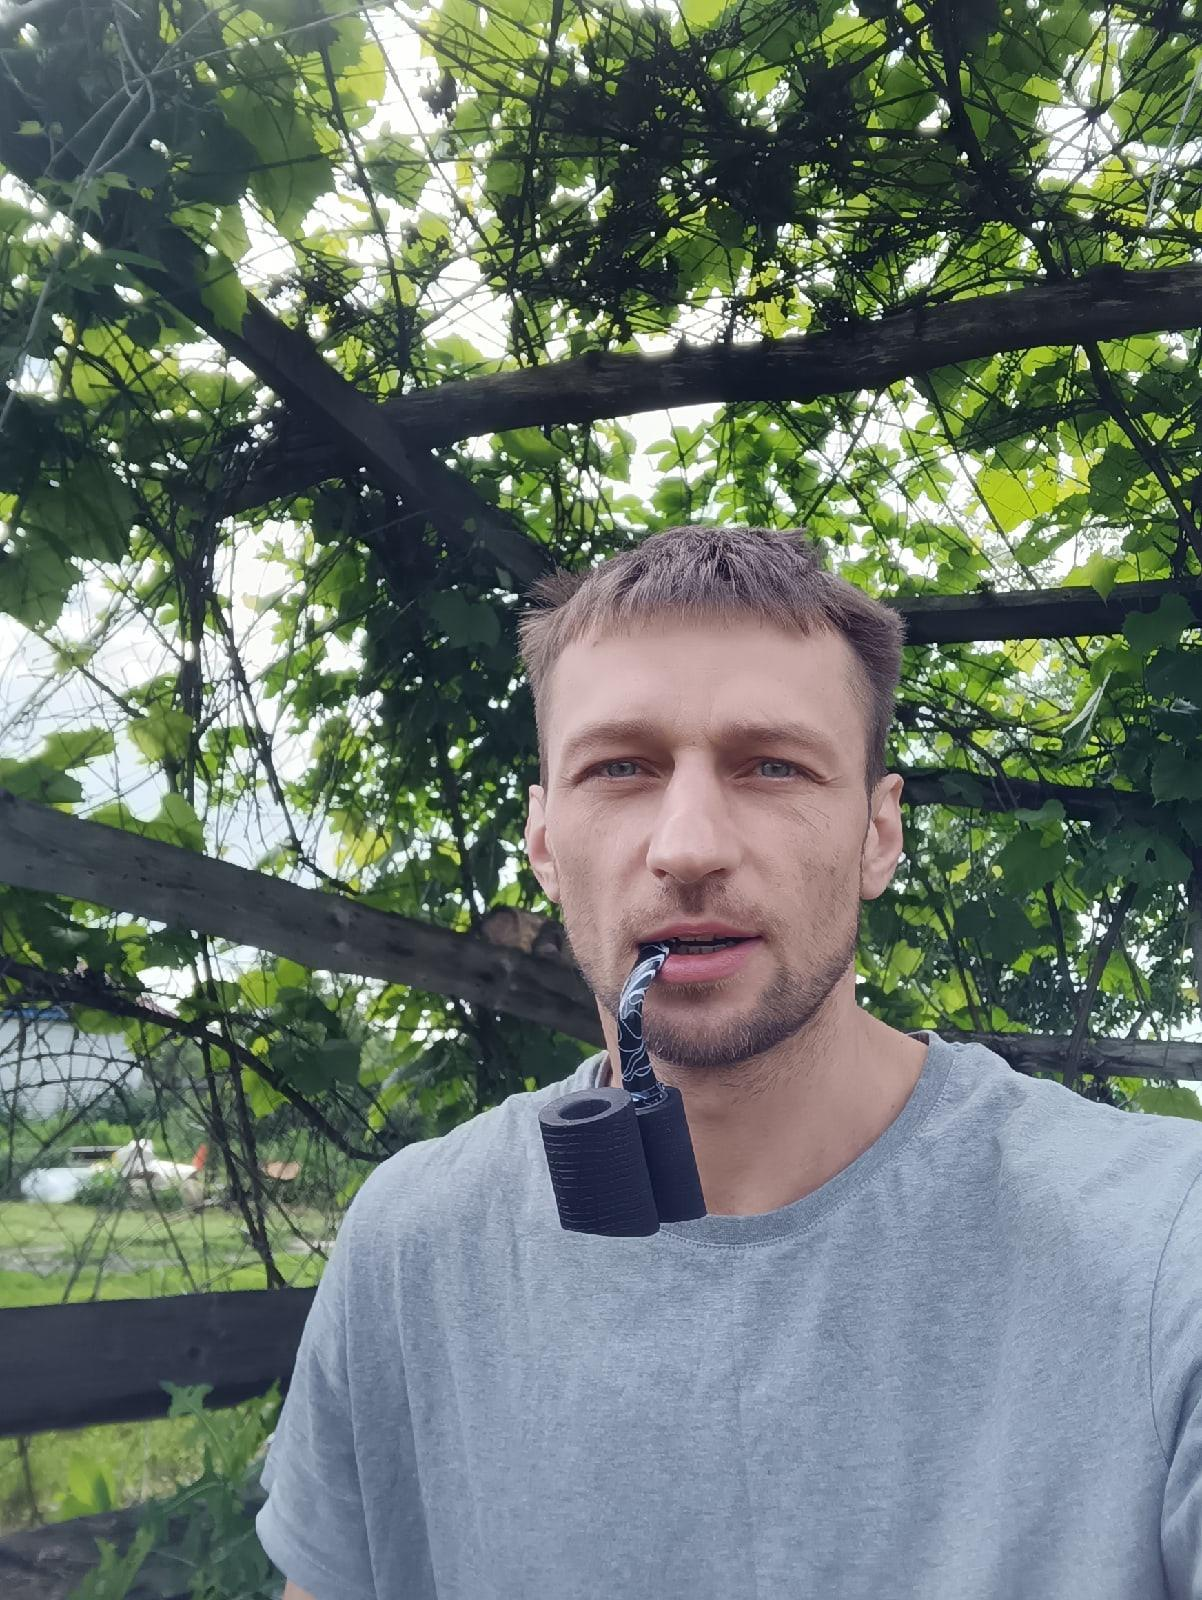trubka: (538, 941, 707, 1239)
